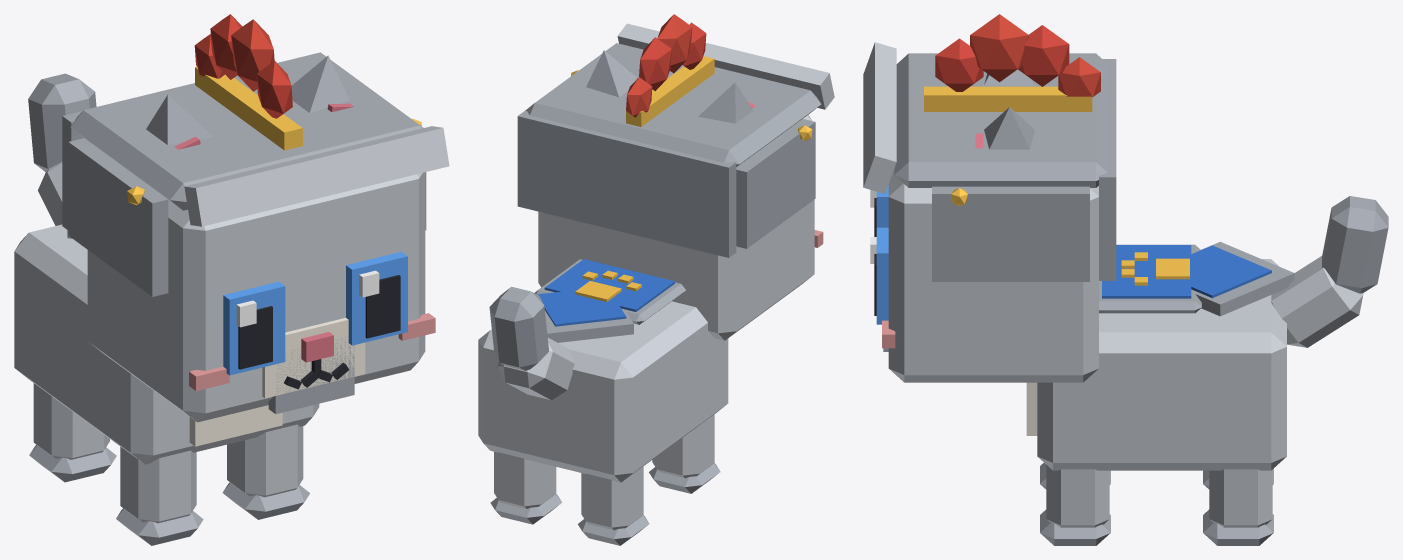
Rendered from CatCafe_Cat_Knight.fbx.
The picture shows the model from 3 angles, left to right: view 1: azimuth 30°, elevation 25°; view 2: azimuth 150°, elevation 25°; view 3: azimuth 270°, elevation 25°; orthographic projection. The views are drawn at different scales.
Parts seen in each view (by area): view 1: CatCafe_Cat_Knight_Prop, CatCafe_Cat_Knight_Head, CatCafe_Cat_Knight_Body, CatCafe_Cat_Knight_LegF2, CatCafe_Cat_Knight_LegF1, CatCafe_Cat_Knight_Eye2, CatCafe_Cat_Knight_Eye1, CatCafe_Cat_Knight_LegB2, CatCafe_Cat_Knight_Tail, CatCafe_Cat_Knight_EarL, CatCafe_Cat_Knight_EarR; view 2: CatCafe_Cat_Knight_Prop, CatCafe_Cat_Knight_Body, CatCafe_Cat_Knight_Head, CatCafe_Cat_Knight_Prop2, CatCafe_Cat_Knight_Tail, CatCafe_Cat_Knight_LegB2, CatCafe_Cat_Knight_LegB1, CatCafe_Cat_Knight_LegF2, CatCafe_Cat_Knight_EarL, CatCafe_Cat_Knight_EarR, CatCafe_Cat_Knight_Crest_Glow; view 3: CatCafe_Cat_Knight_Prop, CatCafe_Cat_Knight_Body, CatCafe_Cat_Knight_Head, CatCafe_Cat_Knight_Prop2, CatCafe_Cat_Knight_Tail, CatCafe_Cat_Knight_LegF1, CatCafe_Cat_Knight_LegB1, CatCafe_Cat_Knight_EarL, CatCafe_Cat_Knight_Eye1, CatCafe_Cat_Knight_Crest_Glow, CatCafe_Cat_Knight_Eye2.
Boxes of the visible parts, x1,y1,x2,y2 form: CatCafe_Cat_Knight_Prop: (62, 14, 449, 296); CatCafe_Cat_Knight_Head: (87, 172, 435, 422); CatCafe_Cat_Knight_Body: (14, 224, 319, 464); CatCafe_Cat_Knight_LegF2: (116, 446, 203, 545); CatCafe_Cat_Knight_LegF1: (222, 424, 309, 519); CatCafe_Cat_Knight_Eye2: (223, 281, 285, 375); CatCafe_Cat_Knight_Eye1: (346, 251, 407, 345); CatCafe_Cat_Knight_LegB2: (29, 383, 116, 482); CatCafe_Cat_Knight_Tail: (28, 73, 96, 225); CatCafe_Cat_Knight_EarL: (291, 55, 353, 112); CatCafe_Cat_Knight_EarR: (146, 94, 212, 149); CatCafe_Cat_Knight_Prop: (517, 14, 834, 257); CatCafe_Cat_Knight_Body: (478, 301, 728, 482); CatCafe_Cat_Knight_Head: (538, 115, 823, 340); CatCafe_Cat_Knight_Prop2: (534, 259, 685, 342); CatCafe_Cat_Knight_Tail: (489, 286, 574, 400); CatCafe_Cat_Knight_LegB2: (578, 466, 649, 545); CatCafe_Cat_Knight_LegB1: (490, 451, 561, 524); CatCafe_Cat_Knight_LegF2: (649, 414, 720, 493); CatCafe_Cat_Knight_EarL: (586, 50, 637, 97); CatCafe_Cat_Knight_EarR: (698, 82, 756, 123); CatCafe_Cat_Knight_Crest_Glow: (575, 270, 641, 301); CatCafe_Cat_Knight_Prop: (863, 14, 1116, 281); CatCafe_Cat_Knight_Body: (1026, 259, 1286, 470); CatCafe_Cat_Knight_Head: (882, 169, 1098, 382); CatCafe_Cat_Knight_Prop2: (1099, 241, 1294, 316); CatCafe_Cat_Knight_Tail: (1271, 196, 1388, 347); CatCafe_Cat_Knight_LegF1: (1040, 465, 1110, 545); CatCafe_Cat_Knight_LegB1: (1203, 469, 1273, 545); CatCafe_Cat_Knight_EarL: (975, 107, 1034, 149); CatCafe_Cat_Knight_Eye1: (870, 227, 888, 324); CatCafe_Cat_Knight_Crest_Glow: (1121, 252, 1189, 285); CatCafe_Cat_Knight_Eye2: (870, 185, 888, 236).
Size of the model in its own units: 1.21 by 2.09 by 2.
Materials: 1 (1 with a texture image).
